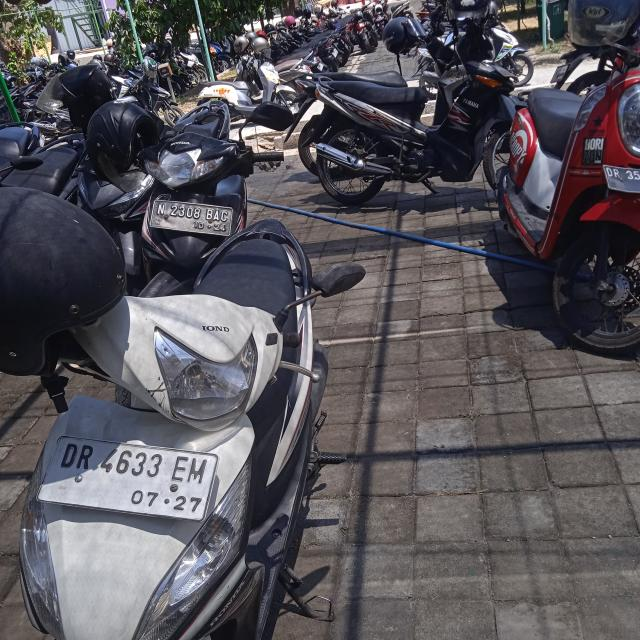plate: (35, 434, 217, 520), (148, 198, 233, 237)
